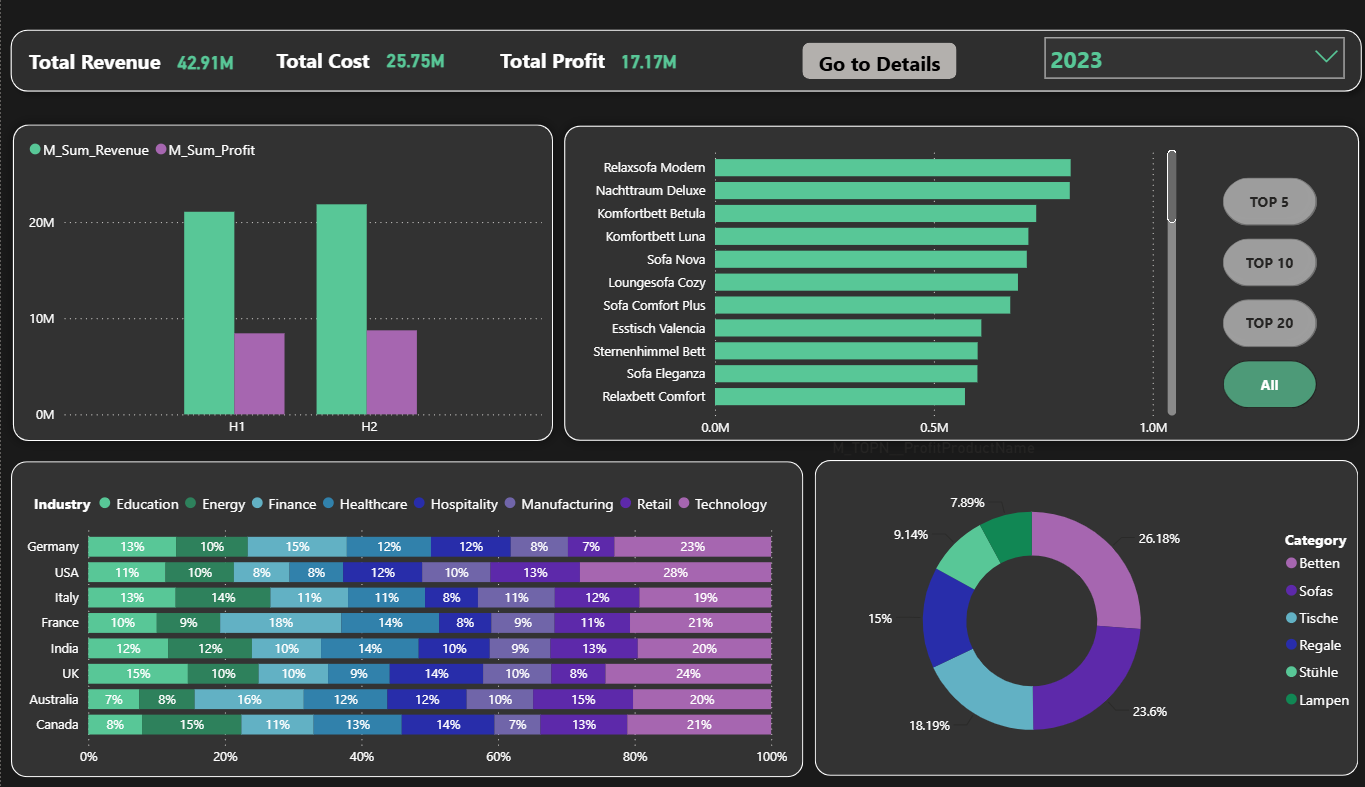

Layout of this report page (visuals, bound fields, positions):
{"tool":"powerbi","page":{"name":"Header","canvas":[1280,720],"ordinal":0},"visuals":[{"type":"shape","box":[9.1,411.5,739.9,295],"z":0},{"type":"shape","box":[1.4,87.1,524.3,315.7],"z":1000},{"type":"shape","box":[516.3,88.6,762.3,314.3],"z":2000},{"type":"shape","box":[759.5,411.4,507.6,294.9],"z":3000},{"type":"shape","box":[0,0,1279.8,75.9],"z":4000},{"type":"card","fields":{"Values":["ListOfMeasures.M_Sum_Cost"]},"box":[339.9,19.2,95,40.6],"z":5000},{"type":"card","fields":{"Values":["ListOfMeasures.M_Sum_Profit"]},"box":[546,16.5,117.2,47.2],"z":6000},{"type":"card","fields":{"Values":["ListOfMeasures.M_Sum_Revenue"]},"box":[138.2,22,106.7,36.7],"z":7000},{"type":"textbox","box":[252.7,20.1,122.5,40],"z":8000},{"type":"textbox","box":[21.5,20.5,140.5,37.2],"z":9000},{"type":"textbox","box":[461,20.1,122.5,40],"z":10000},{"type":"clusteredColumnChart","fields":{"Y":["ListOfMeasures.M_Sum_Revenue","ListOfMeasures.M_Sum_Profit"],"Category":["DimDate.HalfYearName Hierarchy.HalfYearName","DimDate.HalfYearName Hierarchy.QuarterName","DimDate.HalfYearName Hierarchy.MonthName"]},"box":[21.4,99.8,489,297.8],"z":11000},{"type":"clusteredBarChart","fields":{"Category":["DimProduct.ProductName"],"Y":["ListOfMeasures.M_TOPN__ProfitProductName"]},"box":[522.8,108.9,579.8,303.8],"z":12000},{"type":"hundredPercentStackedBarChart","fields":{"Category":["DimCustomers.Country"],"Y":["ListOfMeasures.M_Sum_Revenue"],"Series":["DimCustomers.Industry"]},"box":[12.1,431.2,727.8,275.4],"z":13000},{"type":"donutChart","fields":{"Category":["DimProduct.Category"],"Y":["ListOfMeasures.M_Sum_Profit"]},"box":[721.2,422,558.8,277.5],"z":14000},{"type":"slicer","fields":{"Values":["DimDate.Year_Date"]},"box":[963.8,6.3,300,55.7],"z":15000},{"type":"advancedSlicerVisual","fields":{"Values":["TopTBL.Value"]},"box":[1145.6,100,100,220.3],"z":16000},{"type":"actionButton","box":[748.1,21.5,144.3,34.2],"z":17000}]}

Visuals, with their boxes in screenshot pixels (x1, y1, x2, y2), scaled from the page's 1280x720 canvas onto the 1365x787 screenshot:
shape: 10/450/799/772
shape: 1/95/561/440
shape: 551/97/1364/440
shape: 810/450/1351/772
shape: 0/0/1364/83
card - ListOfMeasures.M_Sum_Cost: 362/21/464/65
card - ListOfMeasures.M_Sum_Profit: 582/18/707/70
card - ListOfMeasures.M_Sum_Revenue: 147/24/261/64
textbox: 269/22/400/66
textbox: 23/22/173/63
textbox: 492/22/622/66
clusteredColumnChart - ListOfMeasures.M_Sum_Revenue x ListOfMeasures.M_Sum_Profit: 23/109/544/435
clusteredBarChart - DimProduct.ProductName x ListOfMeasures.M_TOPN__ProfitProductName: 558/119/1176/451
hundredPercentStackedBarChart - DimCustomers.Country x ListOfMeasures.M_Sum_Revenue: 13/471/789/772
donutChart - DimProduct.Category x ListOfMeasures.M_Sum_Profit: 769/461/1364/765
slicer - DimDate.Year_Date: 1028/7/1348/68
advancedSlicerVisual - TopTBL.Value: 1222/109/1328/350
actionButton: 798/24/952/61
